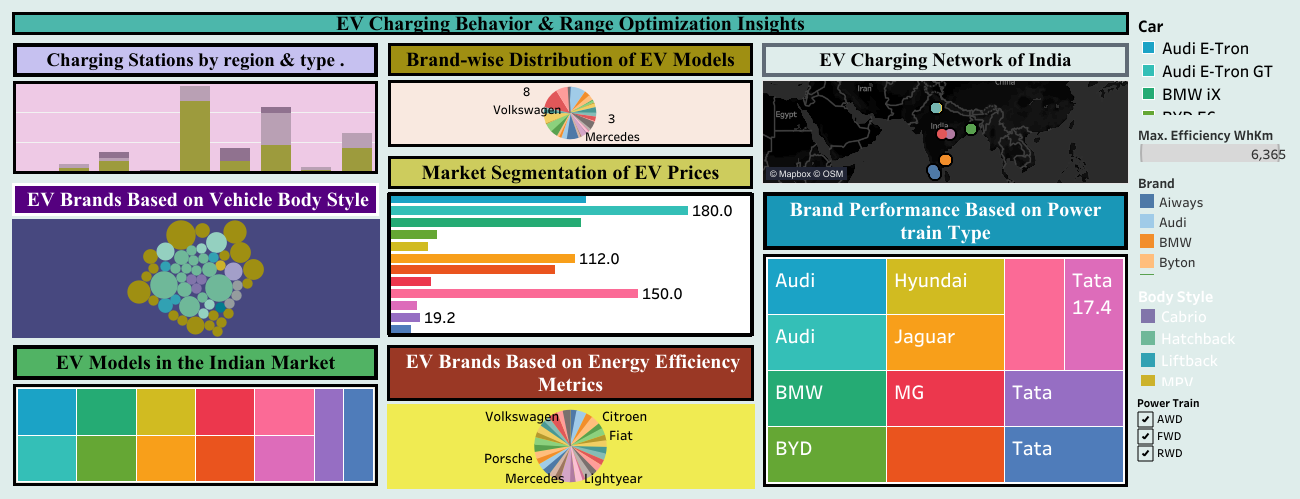

Layout of this report page (visuals, bound fields, positions):
{"tool":"tableau","page":{"name":"Dashboard 1","canvas":[1000,1000],"units":"permille","ordinal":0},"visuals":[{"type":"title","box":[5.9,11.5,871.1,44.4]},{"type":"legend","title":"Sheet 4","param":"[federated.1fzc3zx1ltakbn1g0fh211rd3fnq].[none:Car:nk]","box":[877,11.5,117.1,254.5]},{"type":"worksheet","title":"Sheet 1","mark":"Automatic","rows":["aux addres"],"cols":["region"],"box":[5.9,55.9,290.1,288.2]},{"type":"worksheet","title":"Sheet 10","mark":"Pie","box":[295.9,55.9,290.4,232.9]},{"type":"worksheet","title":"Sheet 3","mark":"Automatic","rows":["latitude"],"cols":["longitude"],"box":[586.4,55.9,290.7,307.2]},{"type":"legend","title":"Sheet 7","param":"[federated.1fzc3zx1ltakbn1g0fh211rd3fnq].[max:Efficiency_WhKm:qk]","box":[877,266,117.1,67.3]},{"type":"worksheet","title":"Sheet 6","mark":"Automatic","rows":["Car"],"cols":["PriceRange(Lakhs)"],"box":[295.9,288.8,290.4,387.9]},{"type":"legend","title":"Sheet 7","param":"[federated.1fzc3zx1ltakbn1g0fh211rd3fnq].[none:Brand:nk]","box":[877,333.3,117.1,254.5]},{"type":"worksheet","title":"Sheet 8","mark":"Circle","box":[5.9,344,290.1,333.4]},{"type":"worksheet","title":"Sheet 9","mark":"Automatic","box":[586.4,363.1,290.7,625.5]},{"type":"legend","title":"Sheet 8","param":"[federated.1fzc3zx1ltakbn1g0fh211rd3fnq].[none:BodyStyle:nk]","box":[877,587.9,117.1,254.5]},{"type":"worksheet","title":"Sheet 7","mark":"Pie","box":[295.9,676.7,290.4,311.8]},{"type":"worksheet","title":"Sheet 4","mark":"Automatic","box":[5.9,677.4,290.1,311.1]},{"type":"filter","title":"Sheet 10","param":"[federated.1fzc3zx1ltakbn1g0fh211rd3fnq].[none:PowerTrain:nk]","box":[877,842.4,117.1,146.1]}]}

Visuals, with their boxes on the dashboard's canvas, which has no fixed pixel size, in thousandths of its width and height (x1, y1, x2, y2). These are canvas units, not pixel positions in the 1300x499 screenshot, which may show the page scaled, cropped or inside an application window:
title: x1=6 y1=12 x2=877 y2=56
"Sheet 4" legend: x1=877 y1=12 x2=994 y2=266
"Sheet 1" worksheet: x1=6 y1=56 x2=296 y2=344
"Sheet 10" worksheet (Pie marks): x1=296 y1=56 x2=586 y2=289
"Sheet 3" worksheet: x1=586 y1=56 x2=877 y2=363
"Sheet 7" legend: x1=877 y1=266 x2=994 y2=333
"Sheet 6" worksheet: x1=296 y1=289 x2=586 y2=677
"Sheet 7" legend: x1=877 y1=333 x2=994 y2=588
"Sheet 8" worksheet (Circle marks): x1=6 y1=344 x2=296 y2=677
"Sheet 9" worksheet: x1=586 y1=363 x2=877 y2=989
"Sheet 8" legend: x1=877 y1=588 x2=994 y2=842
"Sheet 7" worksheet (Pie marks): x1=296 y1=677 x2=586 y2=988
"Sheet 4" worksheet: x1=6 y1=677 x2=296 y2=988
"Sheet 10" filter: x1=877 y1=842 x2=994 y2=988
